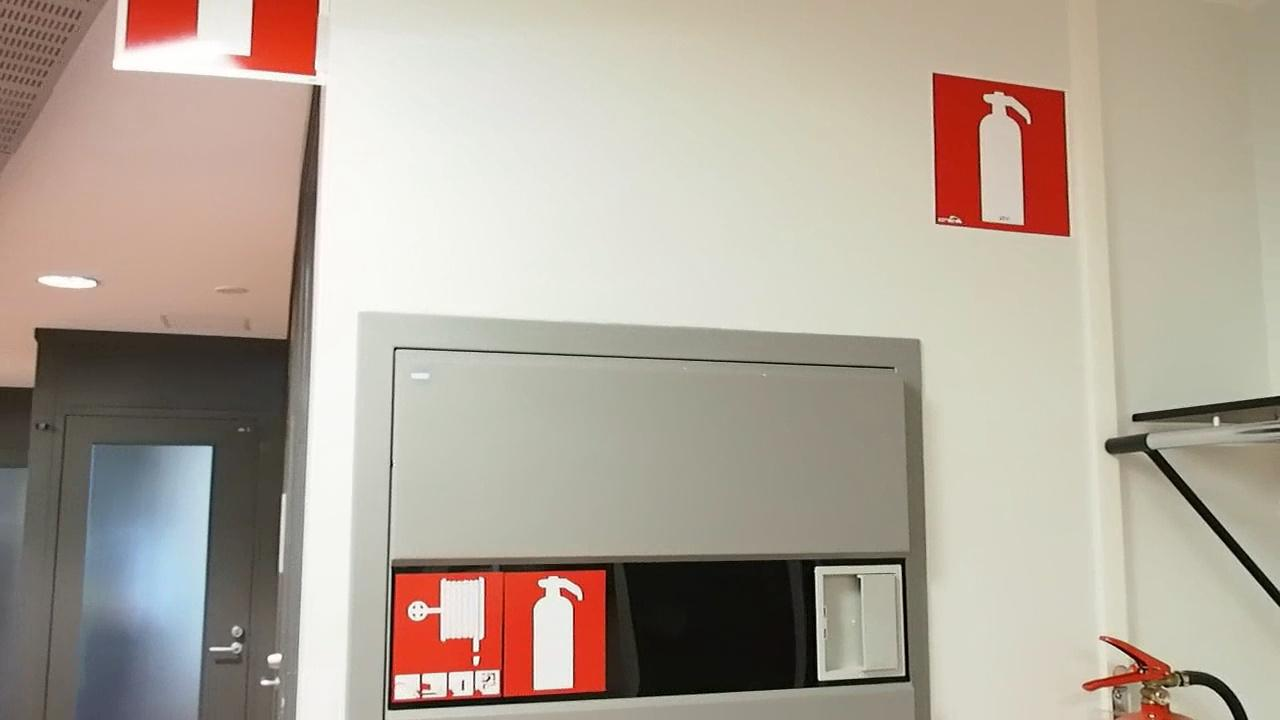fireextinguisher: (937, 70, 1074, 234), (513, 571, 606, 694)
trashbin: (816, 567, 906, 680)
